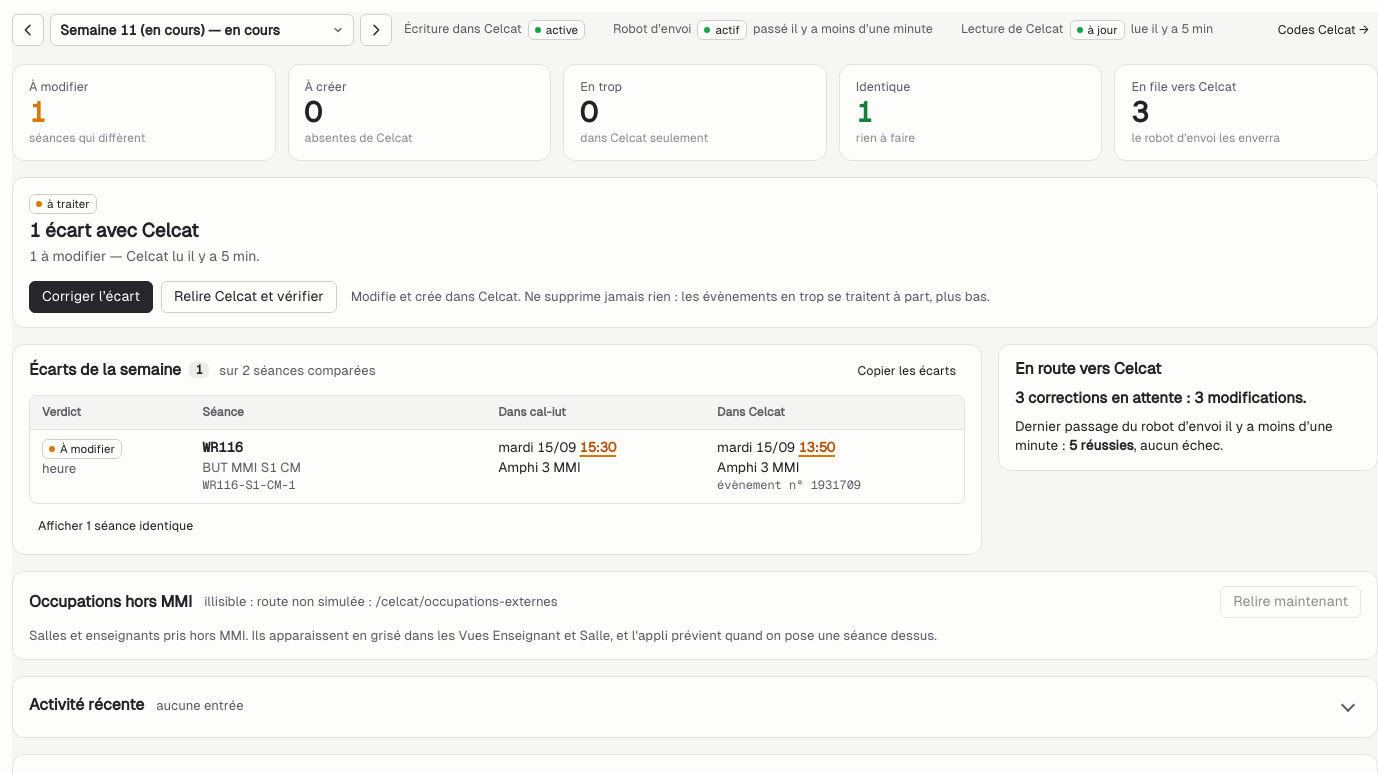
Refonte du 29/09/2026 › ramène à la semaine en cours d'un clic
Expected: the button "semaine en cours" is not shown
Click the button named "semaine suivante".
click(376, 30)  # box [360,14,392,46]
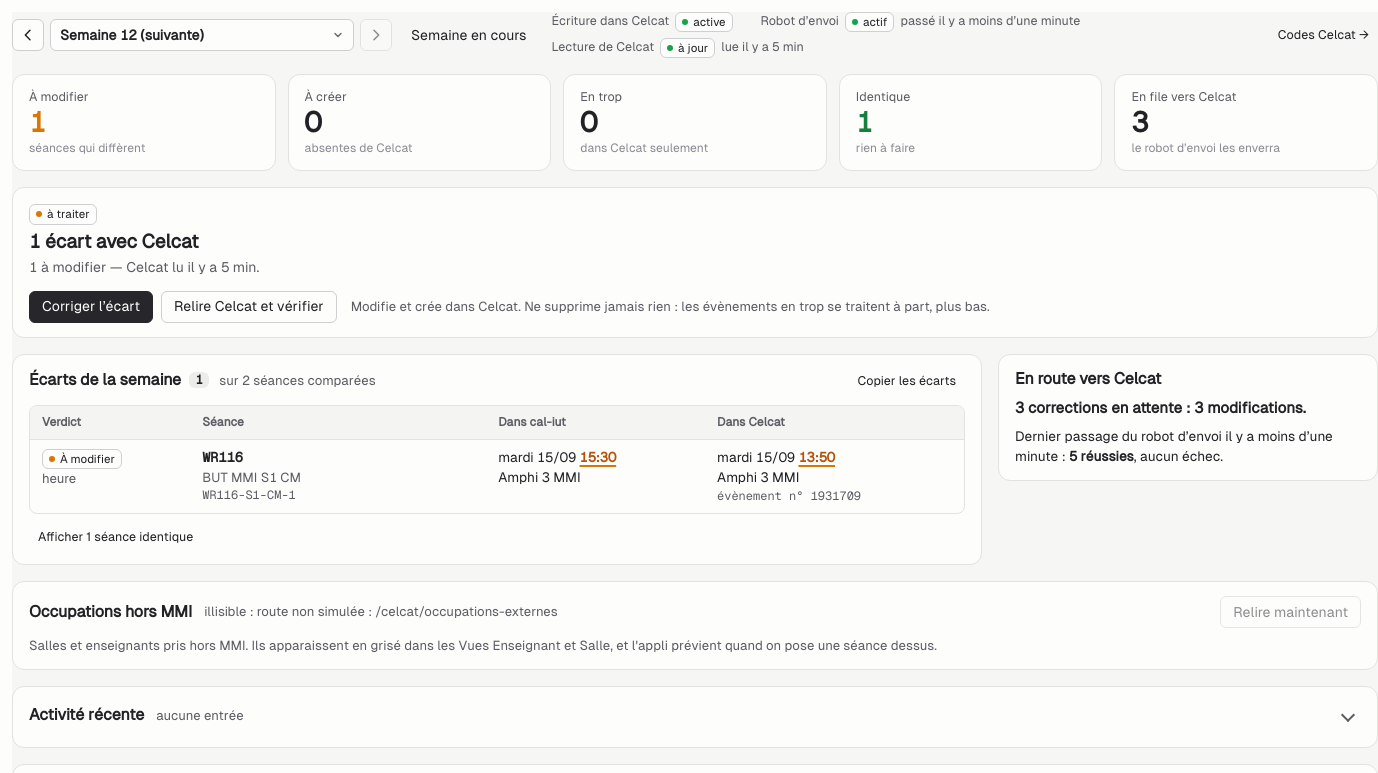
Click the button "Semaine en cours".
click(469, 35)  # box [398,19,540,51]
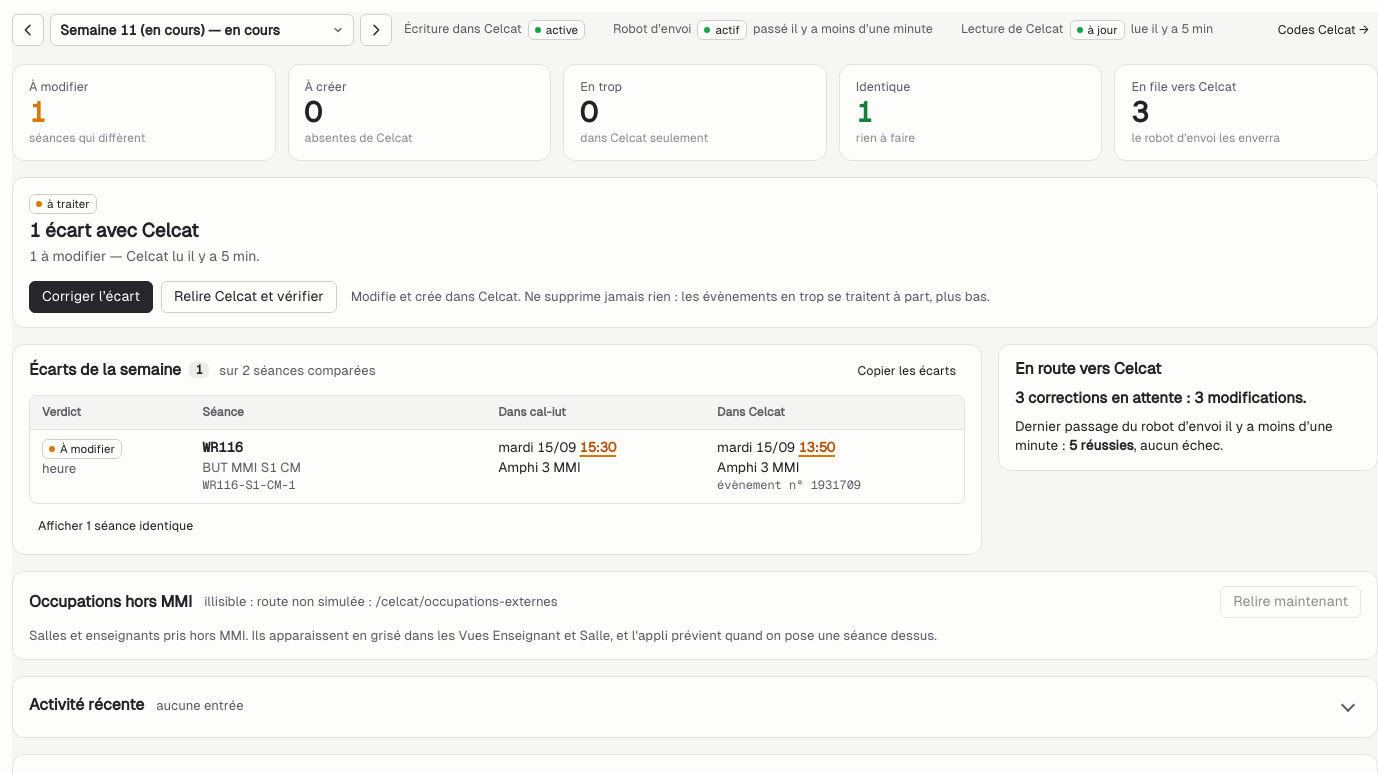
Expected: the dropdown named "semaine comparée" shows "Semaine 11 (en cours) — en cours", [50,14,354,46]
